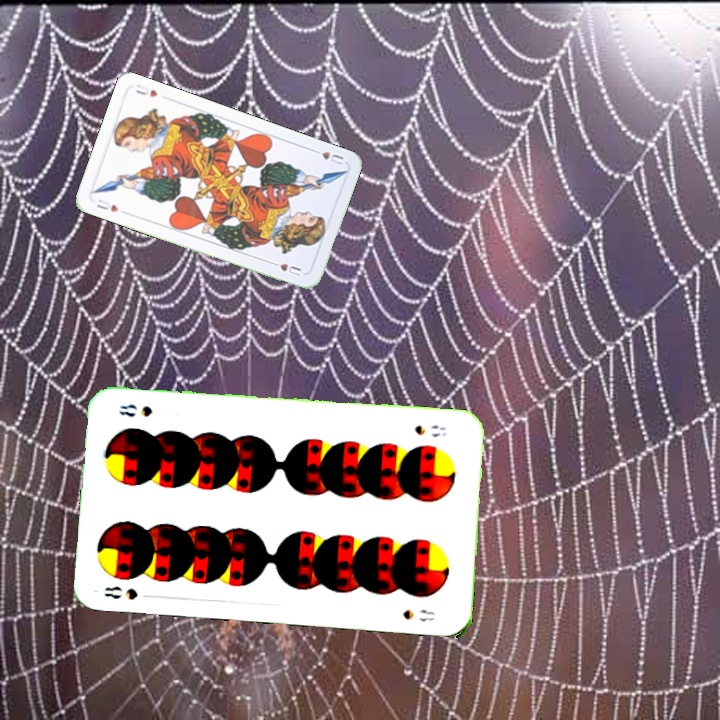HU: (308, 145, 346, 167), (92, 195, 121, 215)
S8: (100, 582, 157, 603), (411, 421, 449, 439)
